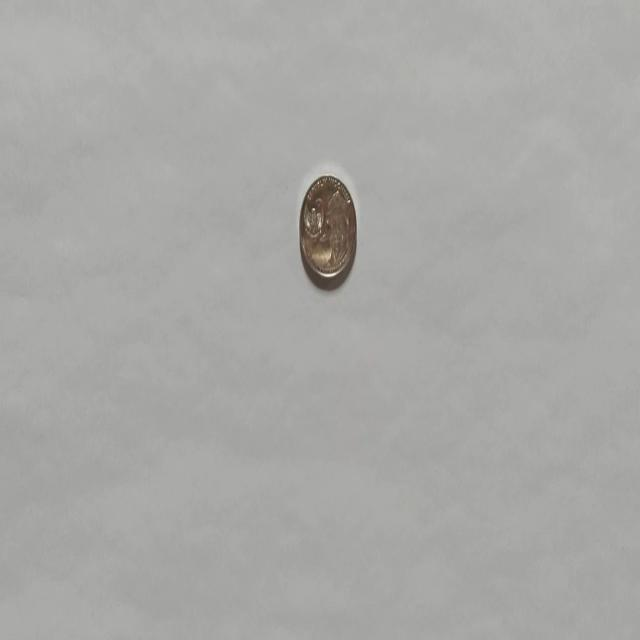dua ratus rupiah: (298, 172, 357, 284)
